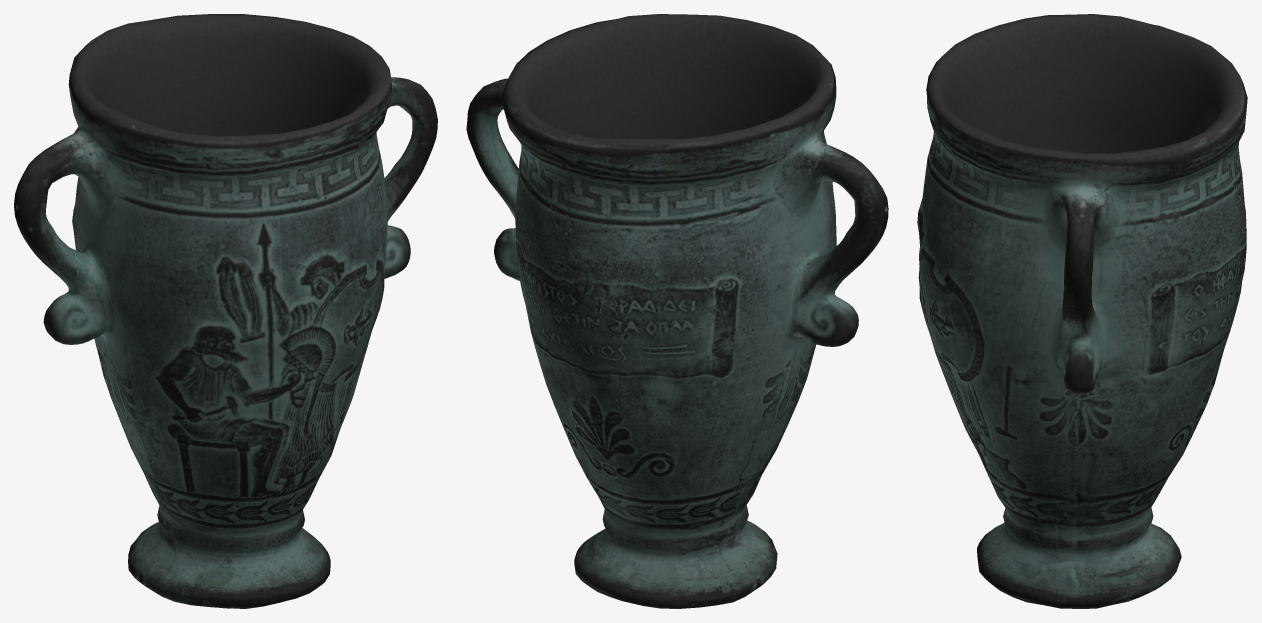
The model's file is replica_greek_vase.glb.
3 renders of one model, left to right at view 1: azimuth 30°, elevation 25°; view 2: azimuth 150°, elevation 25°; view 3: azimuth 270°, elevation 25°, orthographic.
Visible parts, largest first — view 1: Cube; view 2: Cube; view 3: Cube.
Part boxes in pixels (x1,y1,x2,y2): Cube: [14, 14, 437, 608]; Cube: [466, 14, 888, 608]; Cube: [917, 14, 1247, 608].
Size of the model in its own units: 0.6338 by 0.7241 by 0.4409.
1 material, 1 textured.
